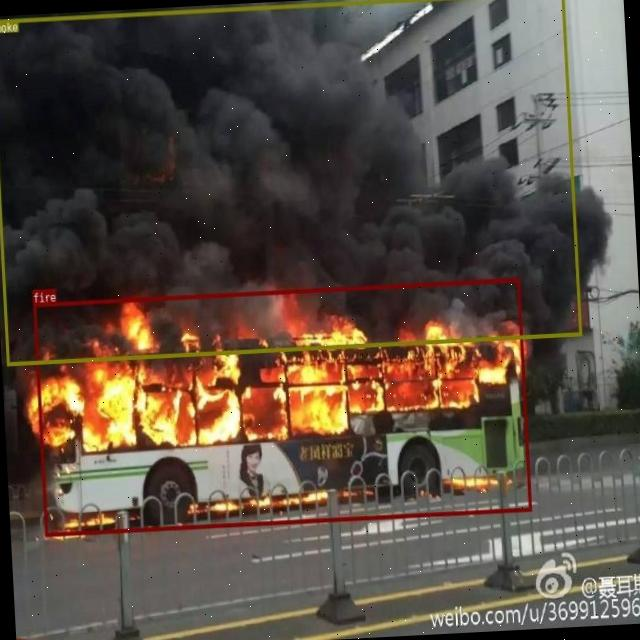fire: (32, 278, 532, 536)
smoke: (0, 0, 581, 364)
